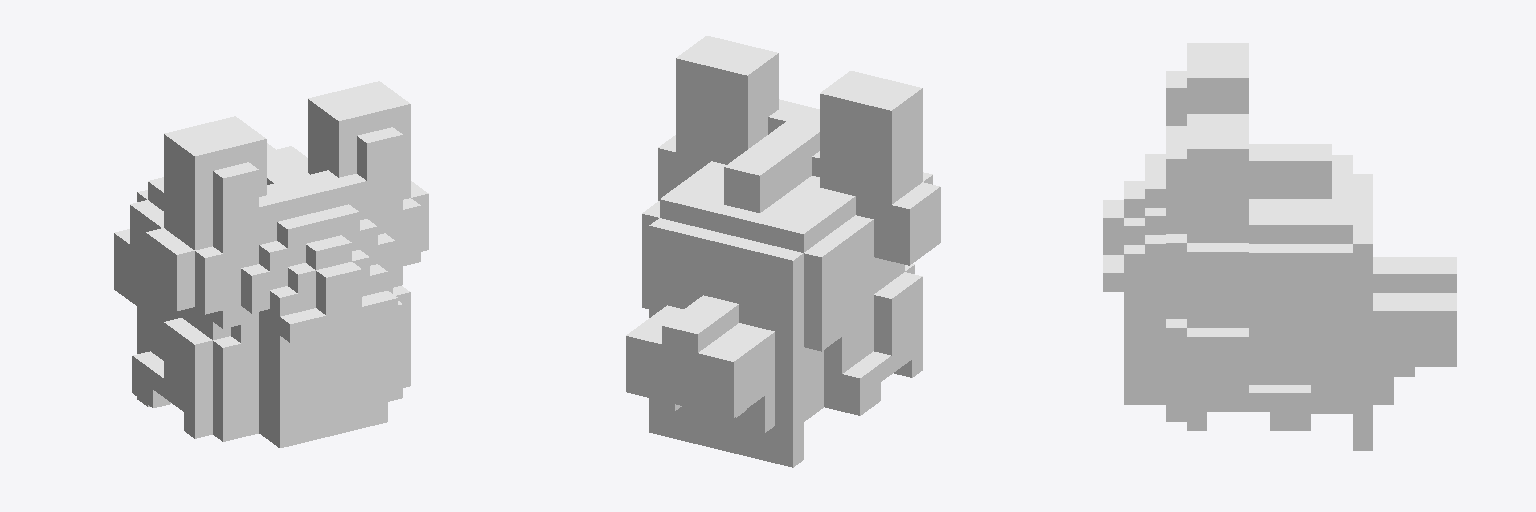
Rendered from anubis_vox-2-head.obj.
3 renders of one model, left to right at view 1: azimuth 30°, elevation 25°; view 2: azimuth 150°, elevation 25°; view 3: azimuth 270°, elevation 25°, orthographic.
Parts seen in each view (by area): view 1: head; view 2: head; view 3: head.
Boxes of the visible parts, <box> form: head: <box>114,81,428,447</box>; head: <box>626,36,940,467</box>; head: <box>1103,43,1456,450</box>.
Size of the model in its own units: 1.4 by 1.7 by 1.7.